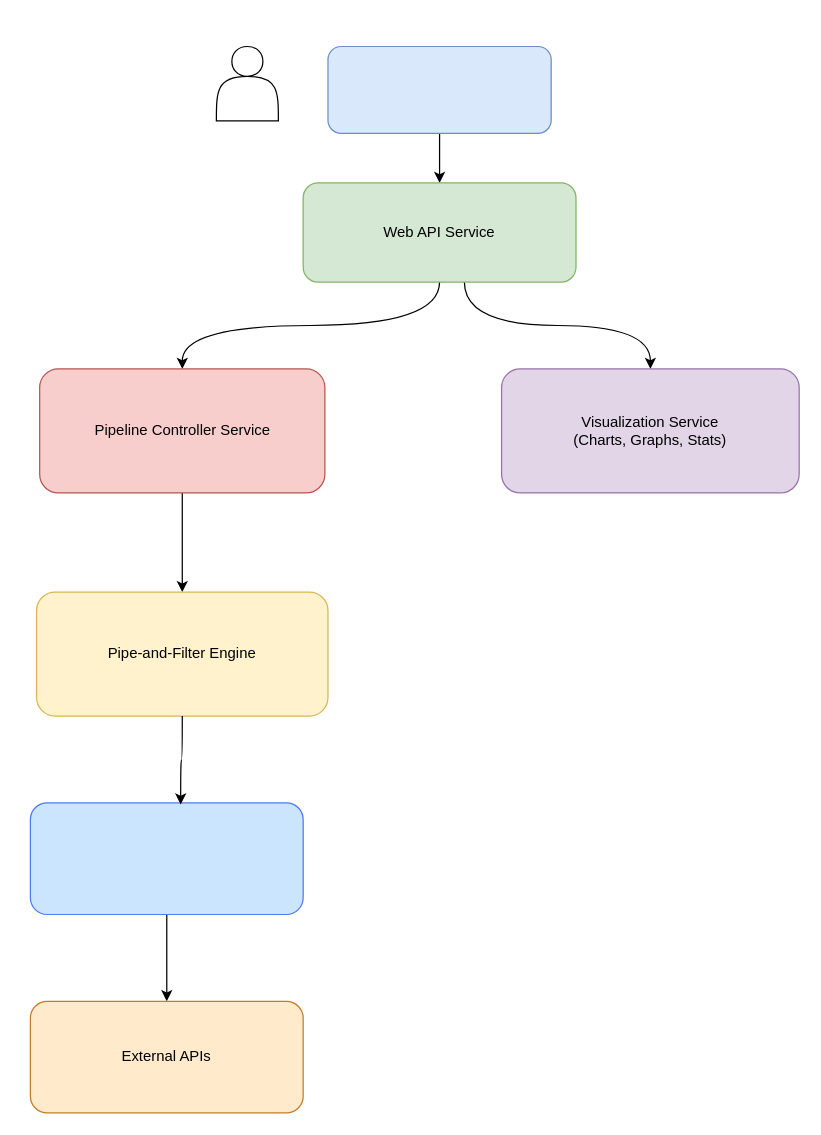
Some shapes in this 821 by 1135 pixel diagram are drawn without their labels. Each missing label, with the centre of its shape:
Storage Manager CSV / PostgreSQL: the point at 166,858
User: the point at 246,83
Web UI: the point at 439,89
